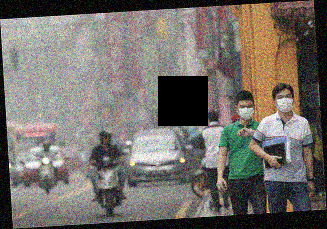with_mask: (276, 92, 294, 114), (237, 102, 256, 122)
